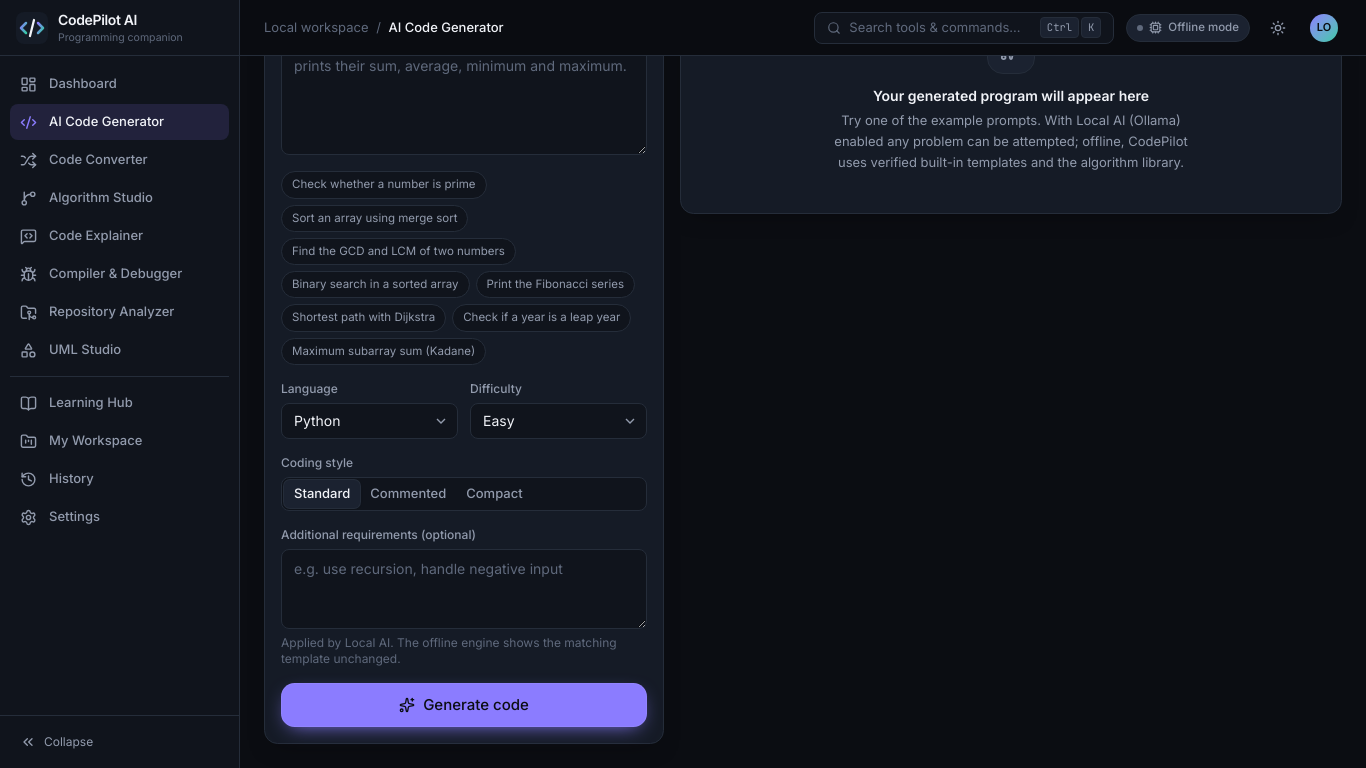
Test: code generator form › validates the problem description
This screenshot has width=1366, height=768.
(page scrolled)
Expected: the text box labelled "Problem description" is shown, 281,56 -> 647,155
Expected: the button with aria-label "AI status" is shown, 1126,14 -> 1250,42
What coordinates should you click on to do the following:
click the button "Generate code"
I would click on:
 (464, 705)
Its box is 281,683 -> 647,727.
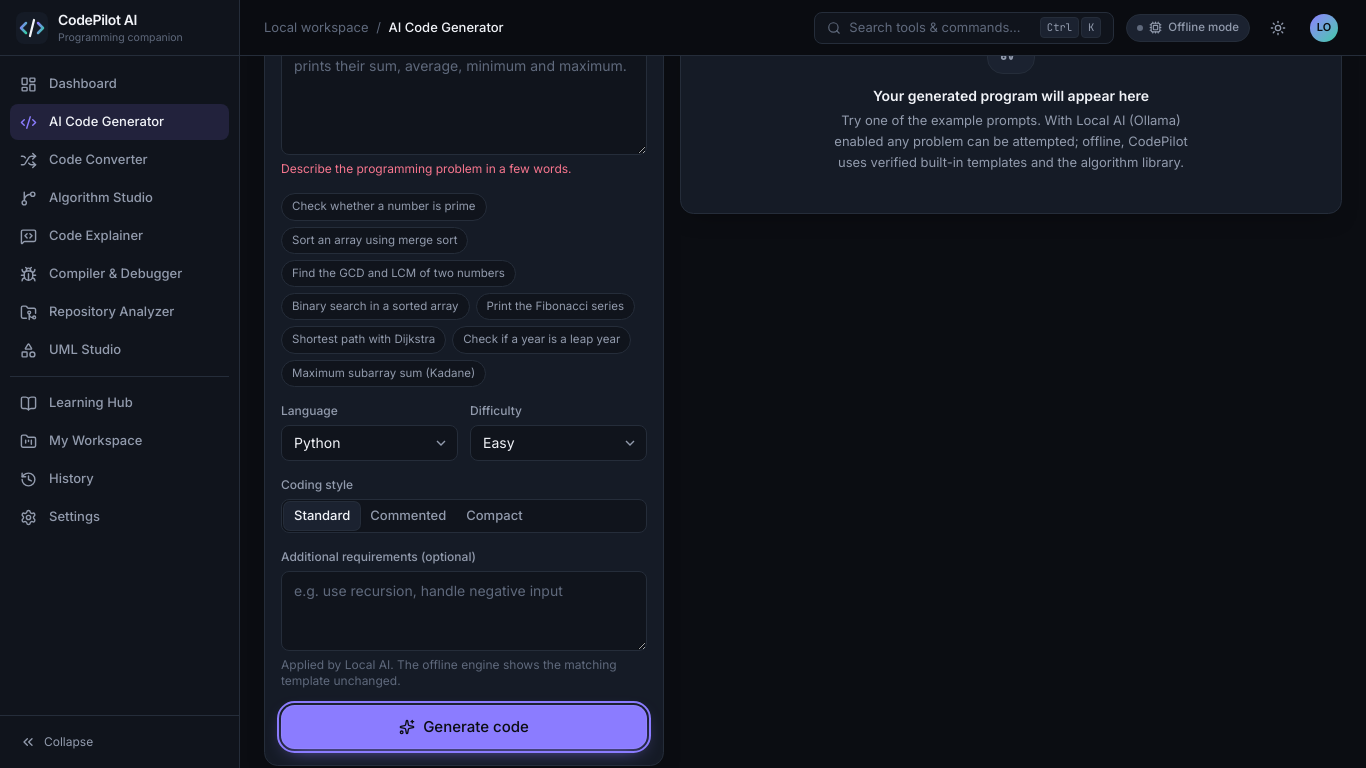
Expected: the text "Describe the programming problem in a few words." is shown, 281,161 -> 572,176
